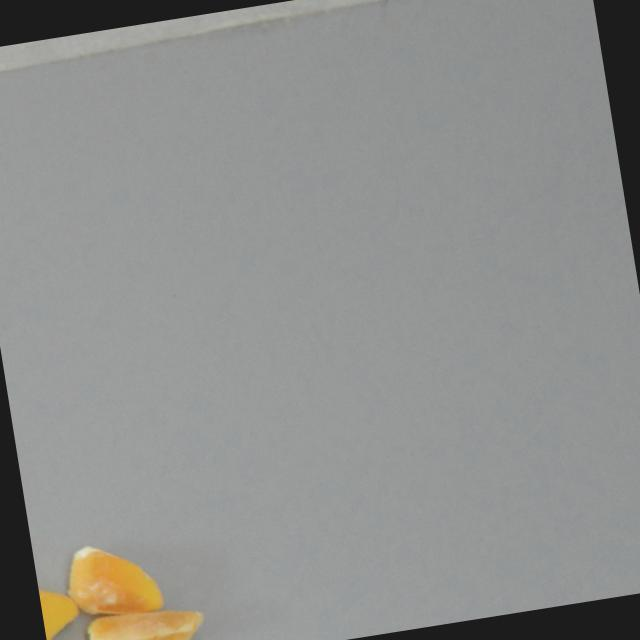pelicula: (63, 535, 167, 624), (83, 600, 210, 640), (36, 564, 86, 640)
